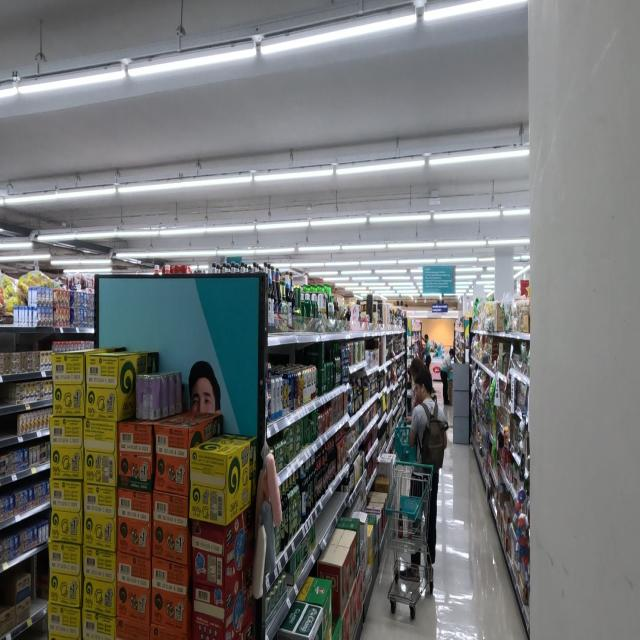shoplifting: (408, 366, 448, 490)
